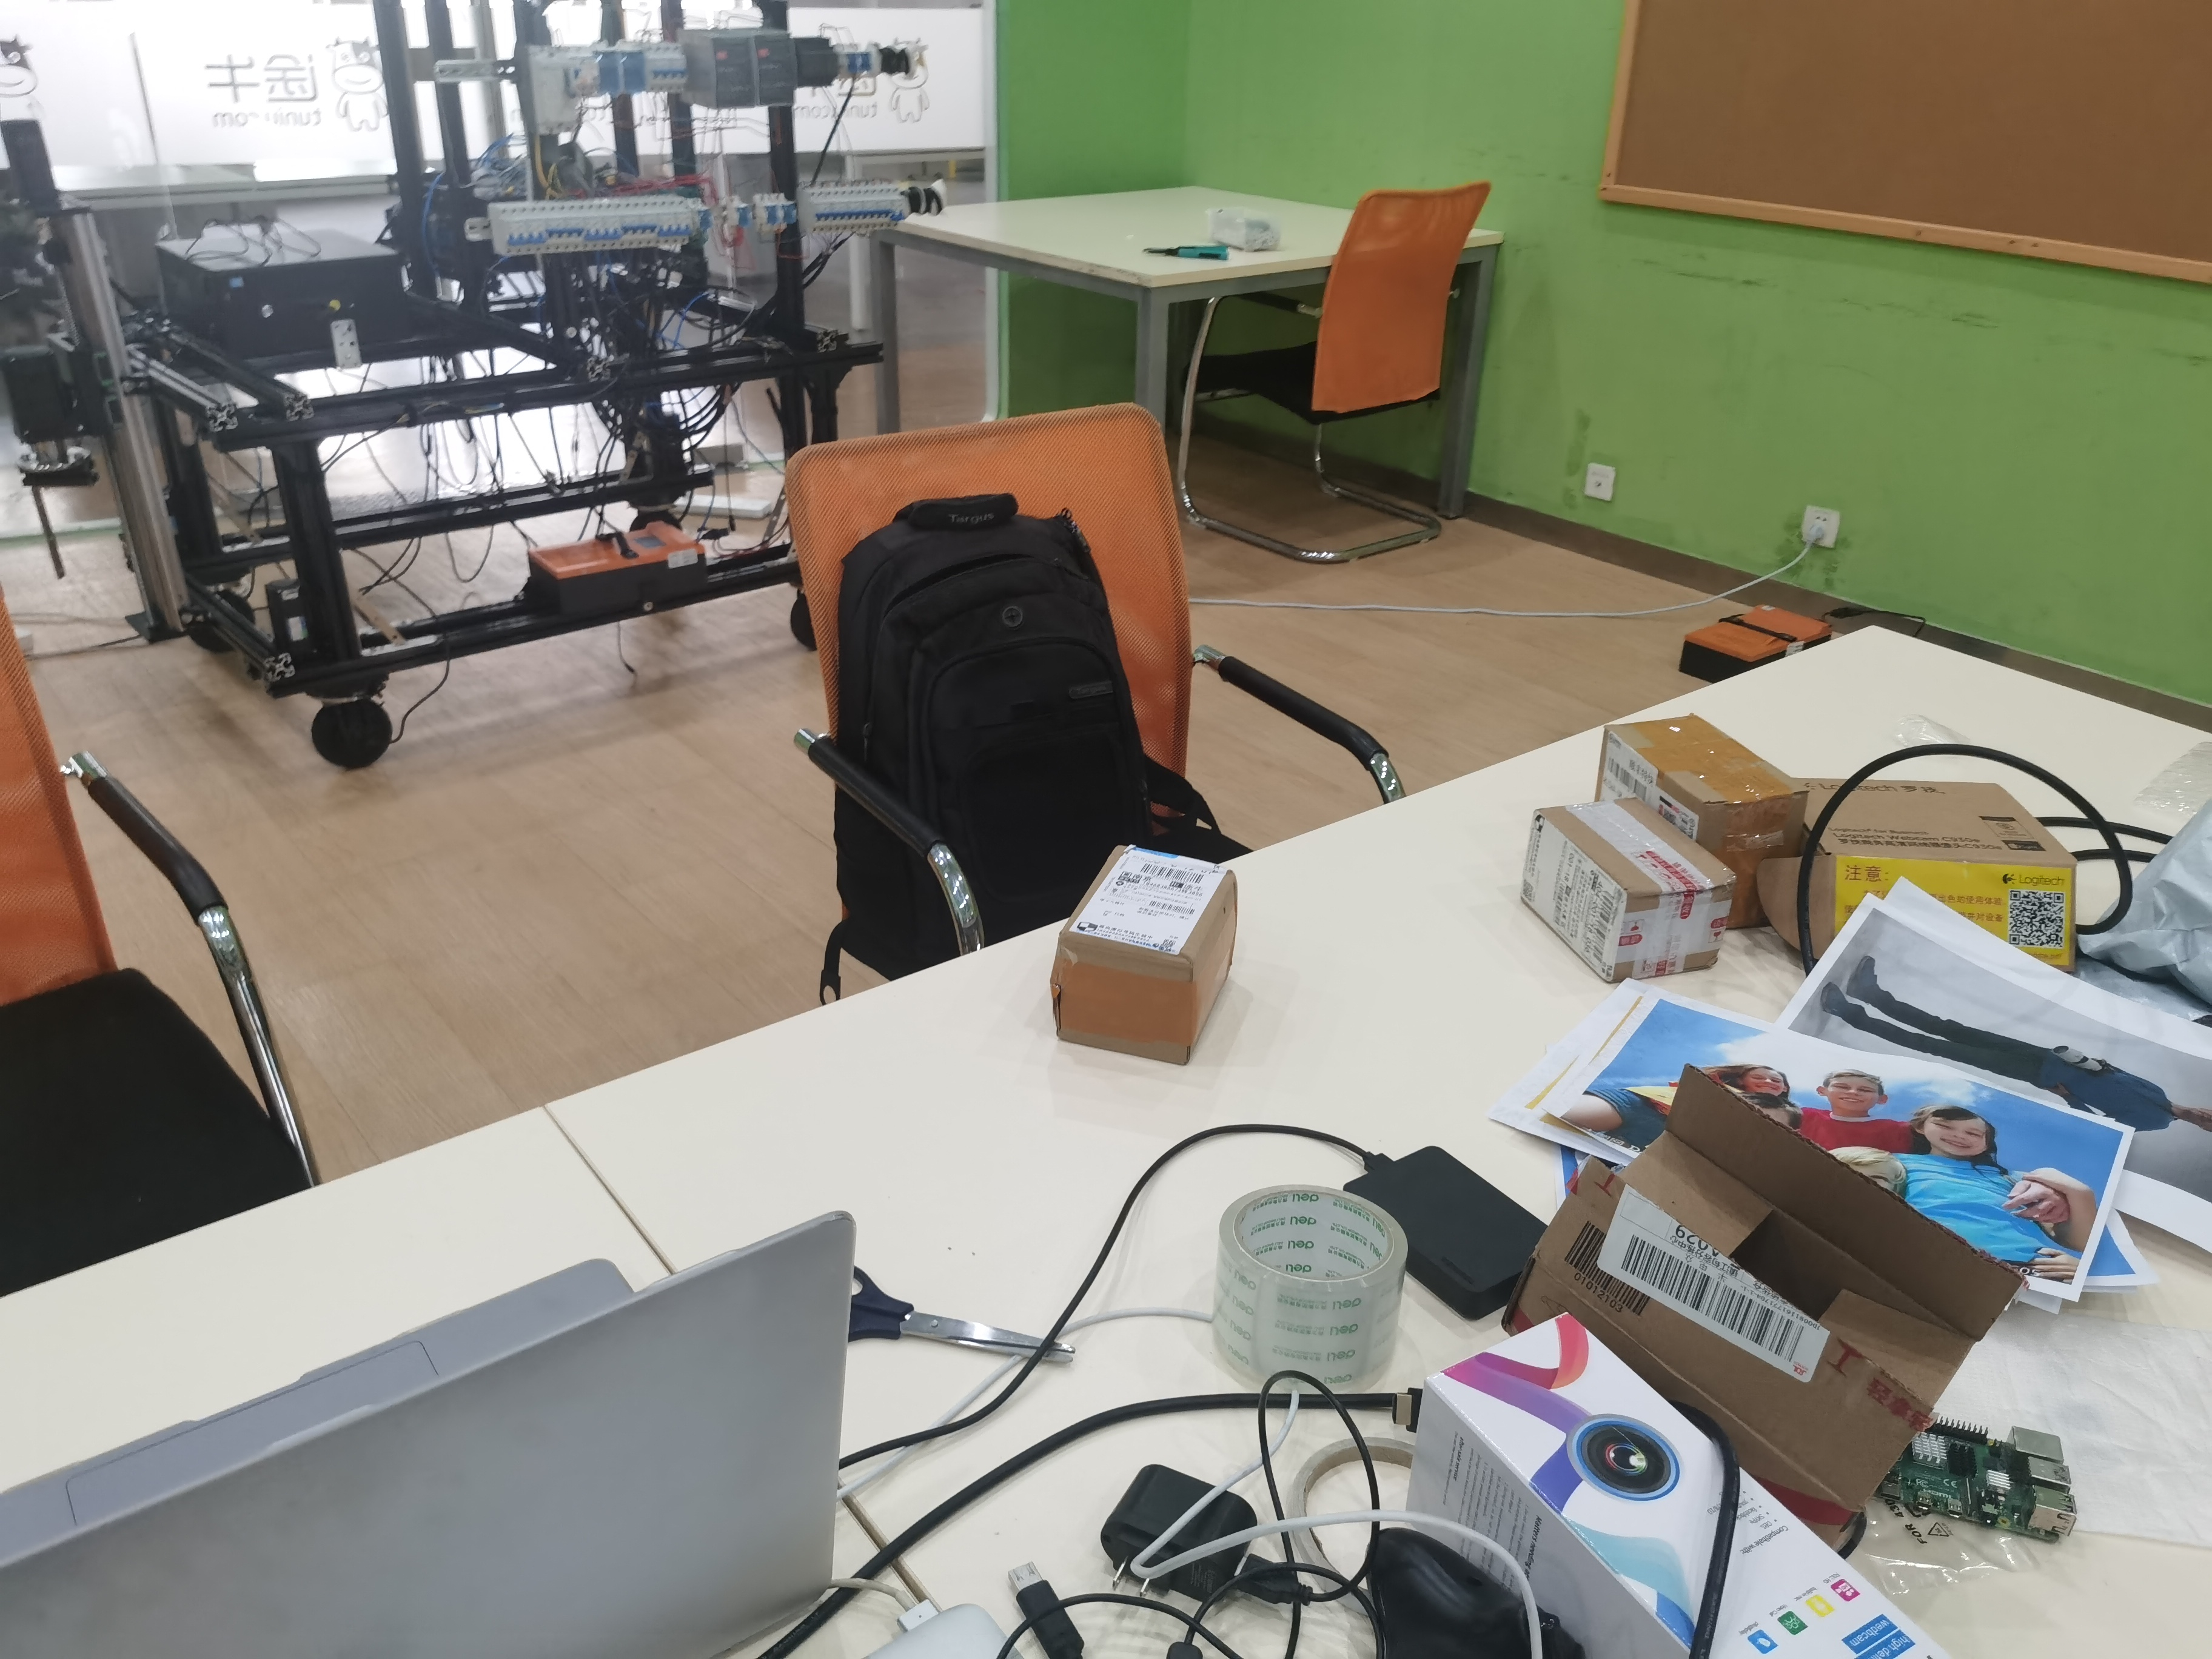box: (1433, 1054, 2006, 1534), (1749, 742, 2104, 995), (1590, 708, 1822, 941), (1033, 838, 1261, 1070), (1517, 789, 1733, 993)
